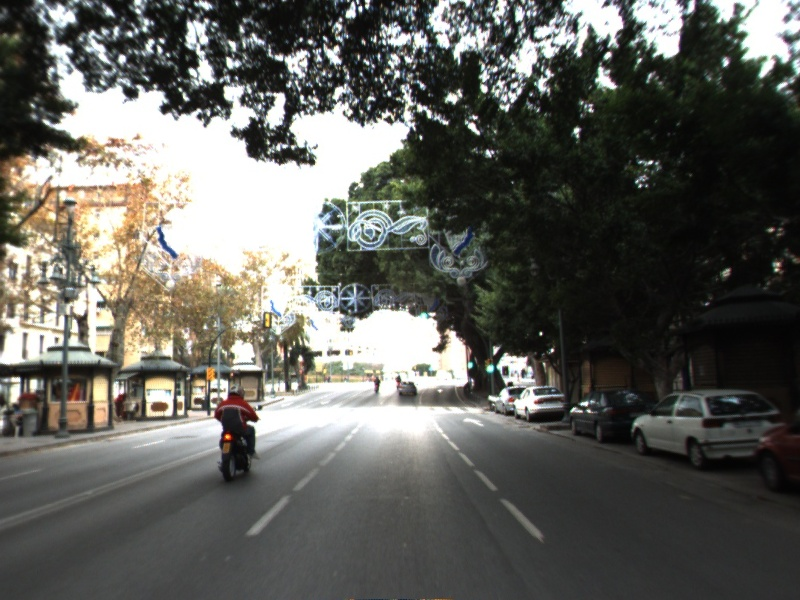STRAIGHT: (460, 415, 486, 429)
